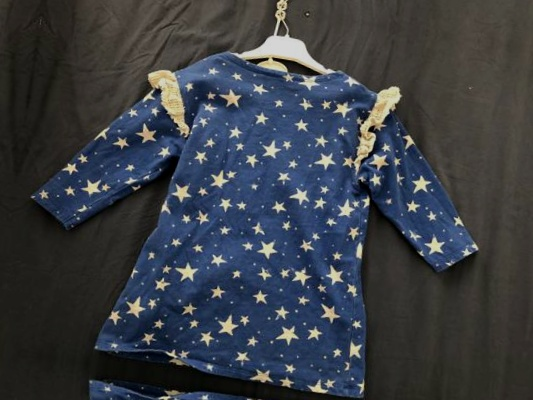Dress: (18, 0, 512, 400), (0, 357, 456, 400), (80, 0, 533, 25), (0, 0, 16, 340)
